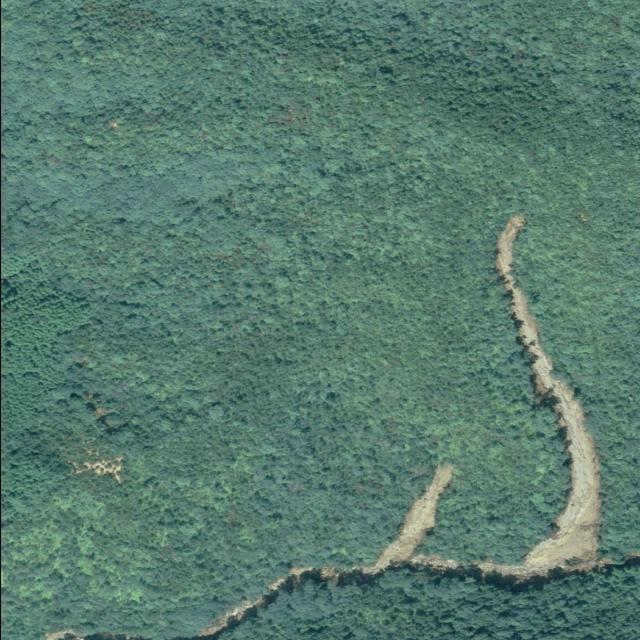landslide: (473, 215, 608, 580), (353, 465, 461, 576)
